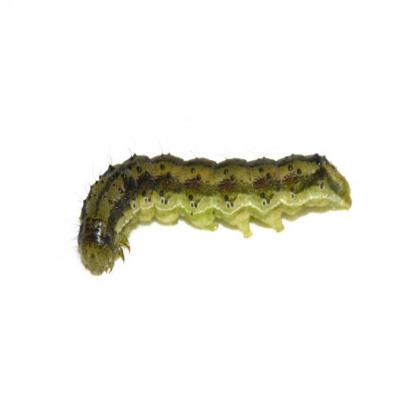sawfly: (70, 136, 358, 280)
